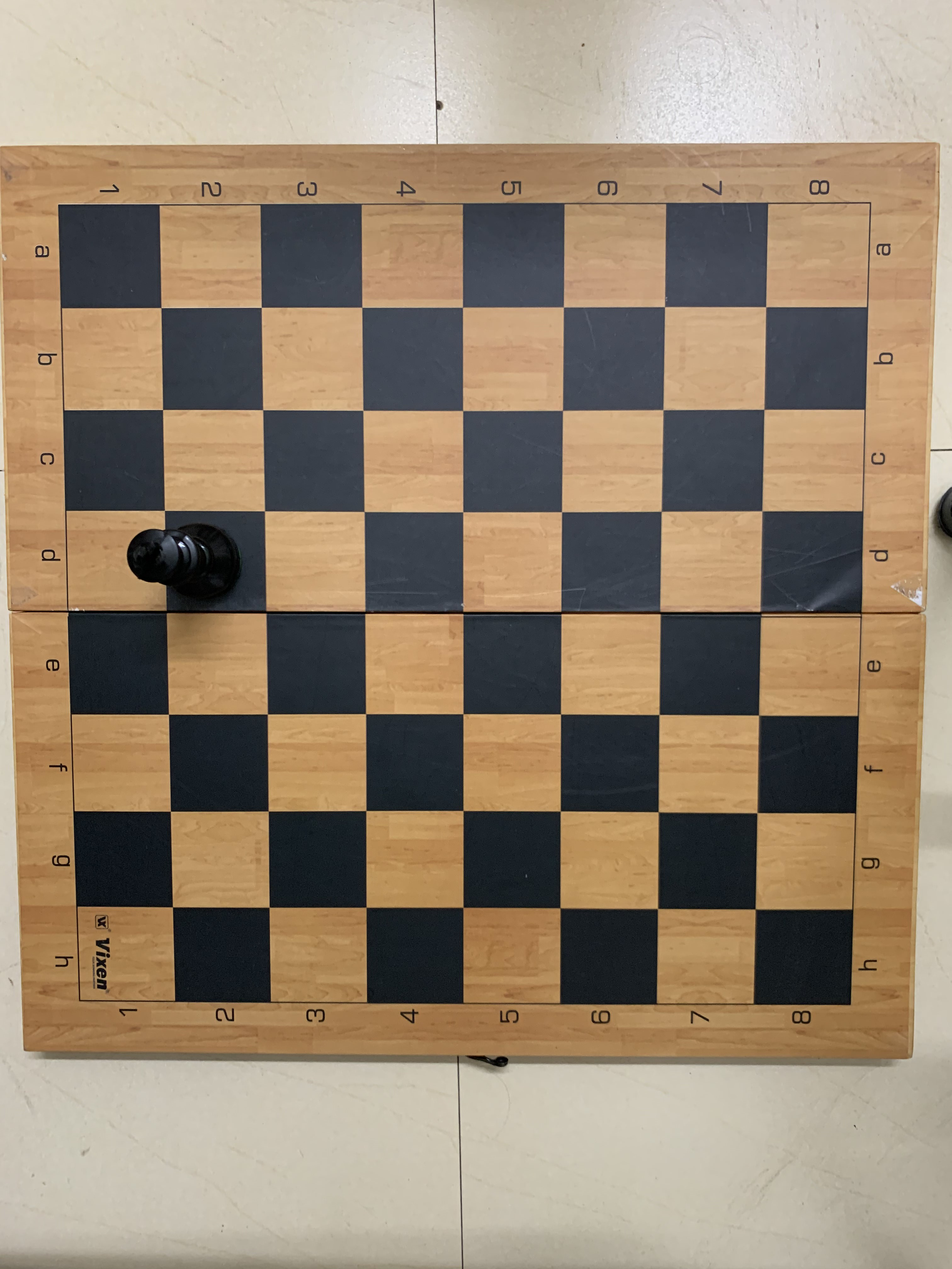black_king: (115, 510, 264, 608)
